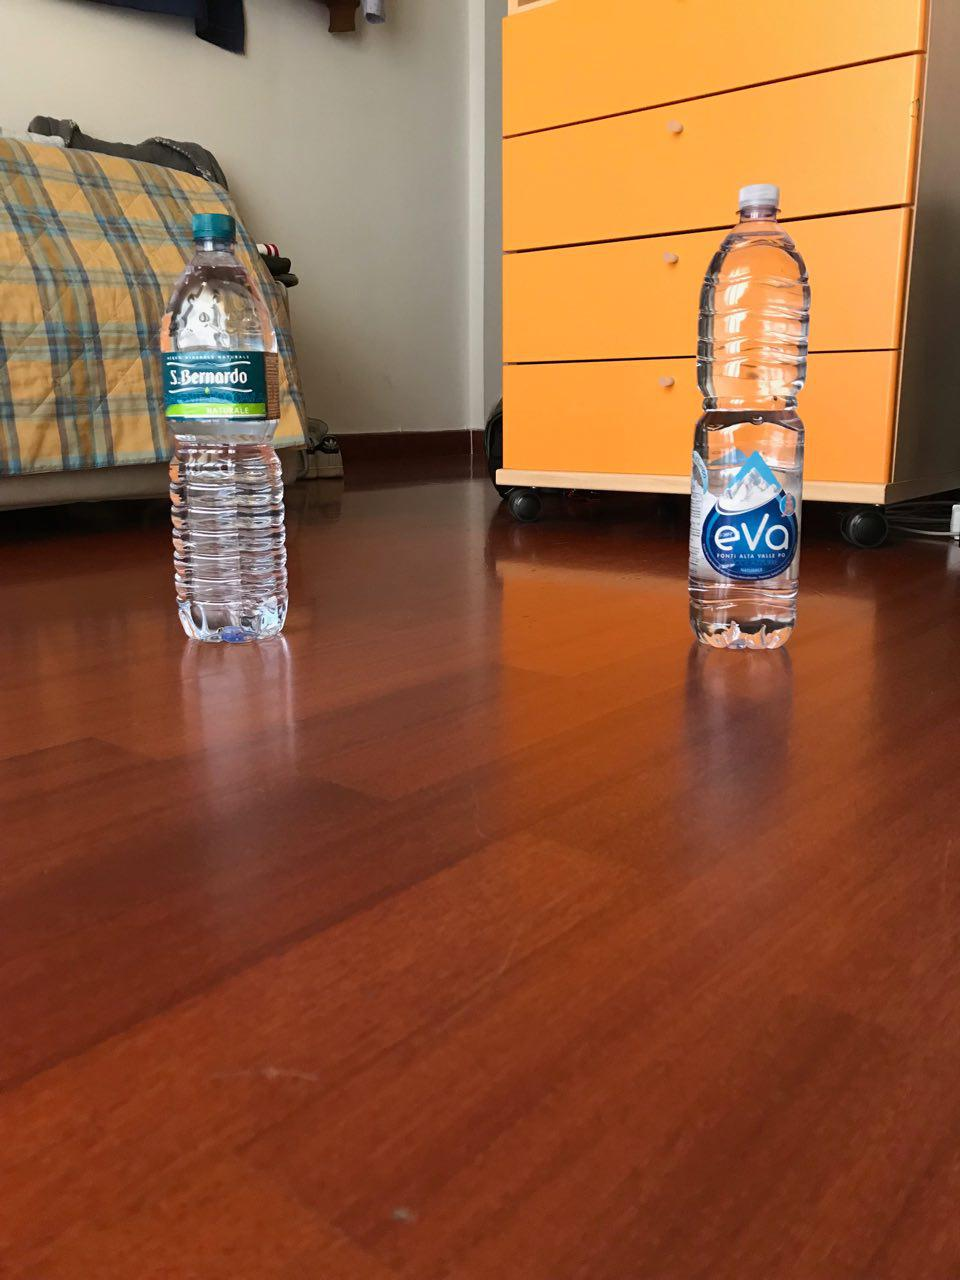san_bernardo: (158, 212, 290, 644)
